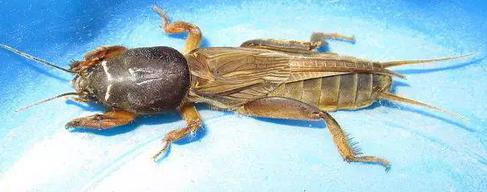pest: (67, 35, 400, 135)
